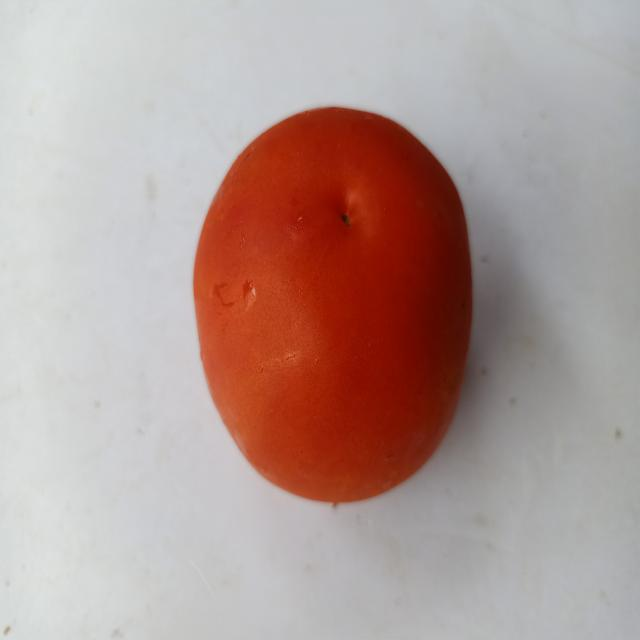Tomato: (186, 83, 513, 520)
